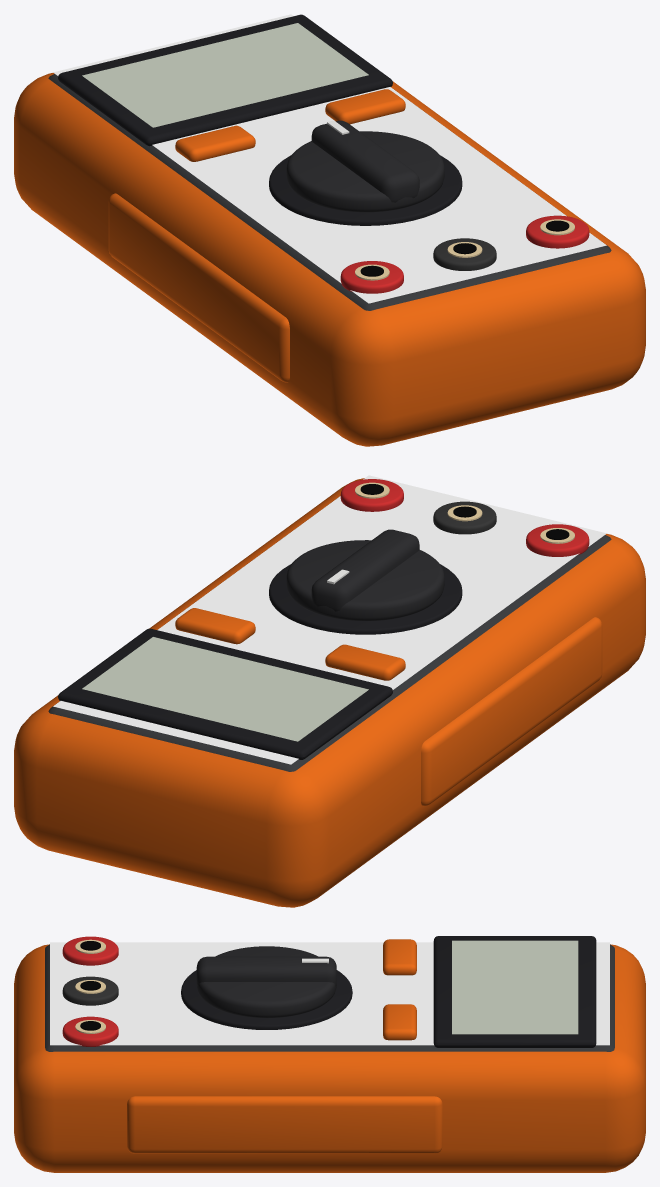
File: multimeter.glb
3 views of the same model, one above another, from view 1: azimuth 30°, elevation 25°; view 2: azimuth 150°, elevation 25°; view 3: azimuth 270°, elevation 25° (orthographic). The views are drawn at different scales.
Parts seen in each view (by area): view 1: Body, FacePanel, LCD, Grip-1, Dial, LCDFrame, Face, DialBase, BtnHold, BtnFunc, JackRing10A, JackRingVOmA (+1 smaller); view 2: Body, FacePanel, LCD, Grip-1, Dial, LCDFrame, Face, DialBase, BtnHold, BtnFunc, JackRing10A, JackRingCOM (+1 smaller); view 3: Body, FacePanel, Grip1, LCD, Dial, LCDFrame, Face, DialBase, BtnHold, BtnFunc, JackRingVOmA, JackRing10A (+1 smaller).
Part boxes in pixels (box(x1,y1,x2,y2)): Body: box(14, 73, 645, 446); FacePanel: box(53, 14, 606, 303); LCD: box(82, 23, 368, 127); Grip-1: box(108, 193, 289, 382); Dial: box(286, 120, 444, 212); LCDFrame: box(58, 14, 392, 146); Face: box(48, 74, 611, 310); DialBase: box(269, 155, 462, 225); BtnHold: box(175, 125, 255, 161); BtnFunc: box(325, 89, 405, 124); JackRing10A: box(340, 261, 403, 293); JackRingVOmA: box(526, 215, 589, 248); Body: box(14, 478, 645, 907); FacePanel: box(53, 475, 606, 764); LCD: box(82, 637, 368, 741); Grip-1: box(421, 617, 602, 806); Dial: box(286, 529, 444, 621); LCDFrame: box(58, 628, 392, 759); Face: box(48, 535, 611, 771); DialBase: box(269, 564, 462, 634); BtnHold: box(325, 644, 405, 680); BtnFunc: box(175, 608, 255, 644); JackRing10A: box(526, 524, 589, 556); JackRingCOM: box(433, 501, 496, 534); Body: box(14, 944, 645, 1172); FacePanel: box(50, 942, 609, 1045); Grip1: box(127, 1096, 442, 1153); LCD: box(452, 940, 578, 1034); Dial: box(196, 946, 336, 1017); LCDFrame: box(433, 936, 596, 1047); Face: box(45, 944, 614, 1051); DialBase: box(181, 970, 352, 1029); BtnHold: box(383, 939, 416, 975); BtnFunc: box(383, 1004, 416, 1040); JackRingVOmA: box(62, 1016, 118, 1046); JackRing10A: box(62, 936, 118, 965).
Size of the model in its own units: 0.073 by 0.039 by 0.14.
